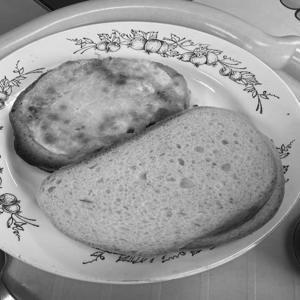bread: (36, 86, 287, 280)
cheese_sandwich: (4, 54, 201, 175)
